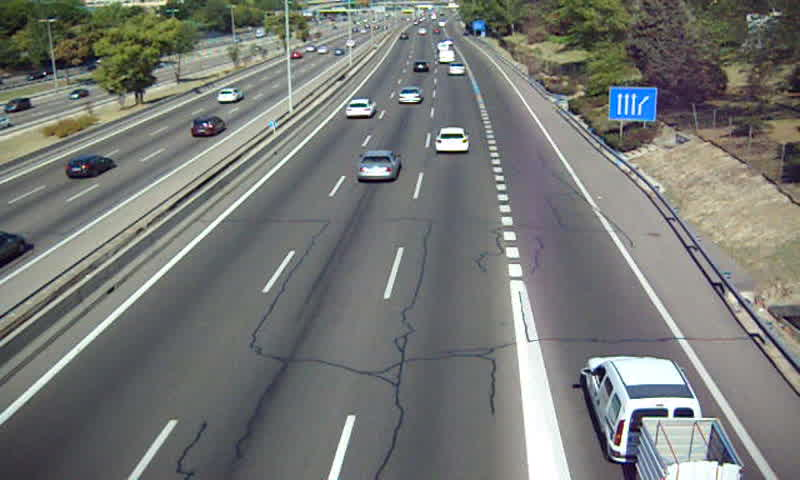car: (356, 150, 401, 181), (435, 127, 468, 153), (345, 99, 375, 120), (397, 87, 424, 106), (448, 62, 467, 77), (411, 61, 429, 75)
van: (584, 355, 703, 464)
